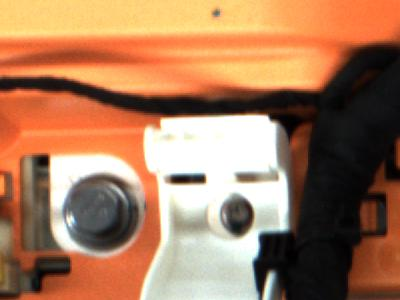nut_b: (65, 174, 148, 254)
